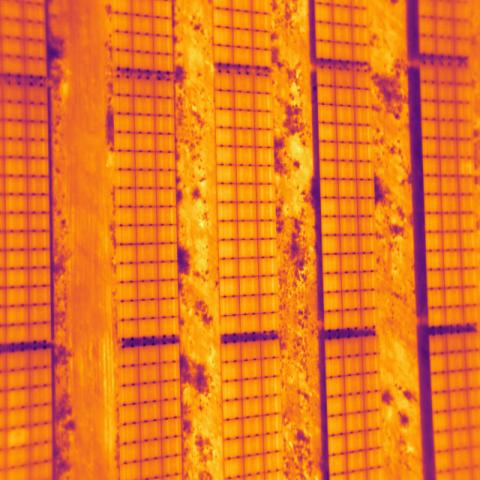fault: (458, 156, 474, 176)
